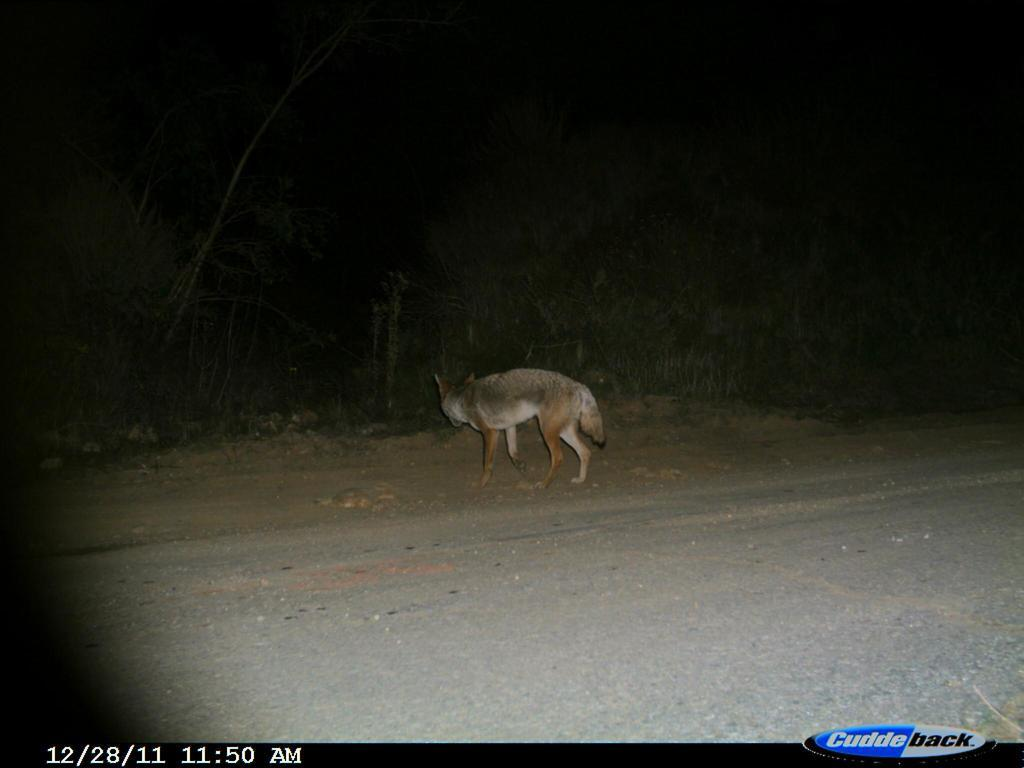coyote: (418, 353, 614, 500)
